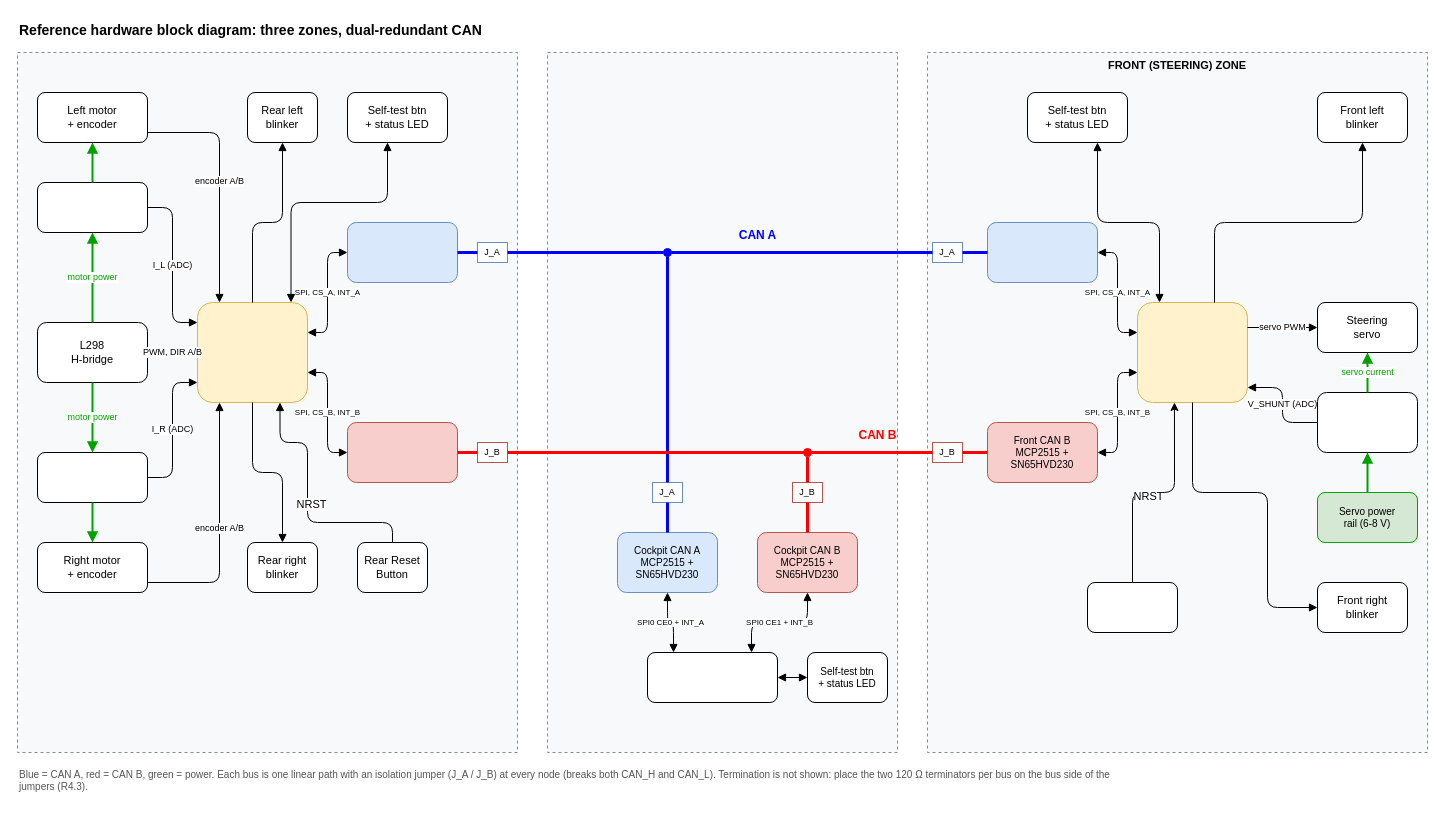
The diagram is 1445 pixels wide and 819 high, and some of its shapes have lost their labels. Each missing label, with the box of its shape:
ACS712 (hall, L): (36, 182, 148, 232)
ACS712 (hall, R): (36, 452, 148, 502)
COCKPIT ZONE (Pi + on-board CAN): (546, 52, 898, 752)
Current sensor: shunt resistor + amplifier: (1316, 392, 1418, 452)
Front CAN A MCP2515 + SN65HVD230: (986, 222, 1098, 282)
Front MCU STM32F401: (1136, 302, 1248, 402)
Front Reset Button: (1086, 582, 1178, 632)
Raspberry Pi 4 (cockpit zone): (646, 652, 778, 702)
REAR (DRIVETRAIN) ZONE: (16, 52, 518, 752)
Rear CAN A MCP2515 + SN65HVD230: (346, 222, 458, 282)
Rear CAN B MCP2515 + SN65HVD230: (346, 422, 458, 482)
Rear MCU STM32F401: (196, 302, 308, 402)
